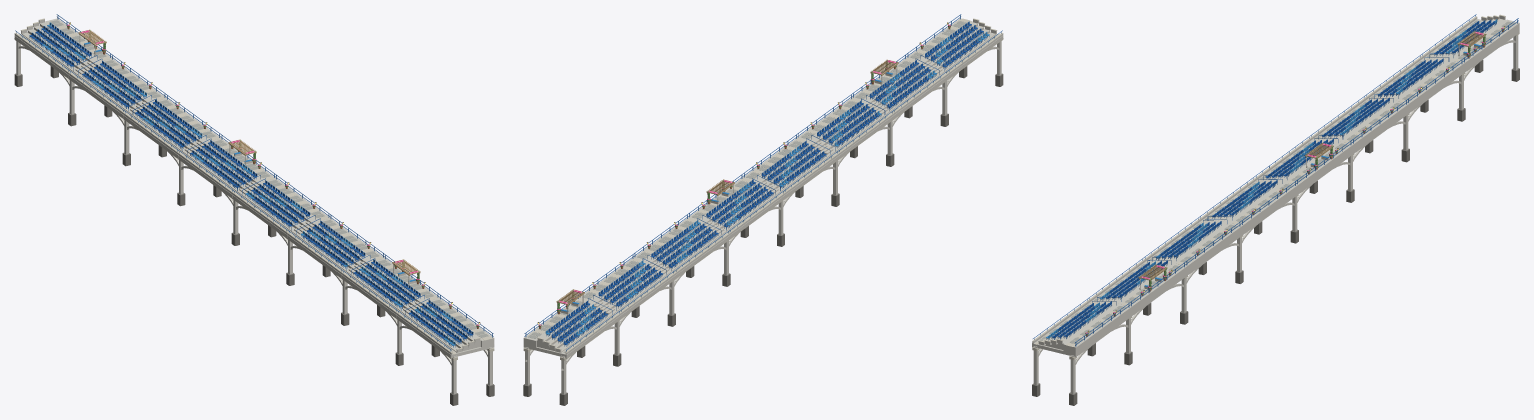
Rendered from santorini_open_terrace.glb.
3 renders of one model, left to right at view 1: azimuth 30°, elevation 25°; view 2: azimuth 150°, elevation 25°; view 3: azimuth 330°, elevation 25°, orthographic.
Parts seen in each view (by area): view 1: Santorini_Terrace_Geometry; view 2: Santorini_Terrace_Geometry; view 3: Santorini_Terrace_Geometry.
Boxes of the visible parts, x1,y1,x2,y2 form: Santorini_Terrace_Geometry: (14, 14, 494, 405); Santorini_Terrace_Geometry: (523, 14, 1003, 405); Santorini_Terrace_Geometry: (1032, 14, 1519, 405).
Bounding box in the file's own units: 9.24 × 14.2 × 161.
